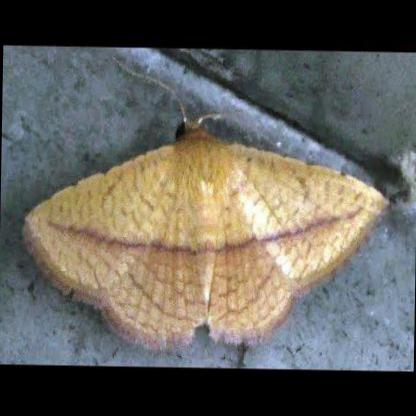Leaf Webber: (13, 59, 389, 359)
